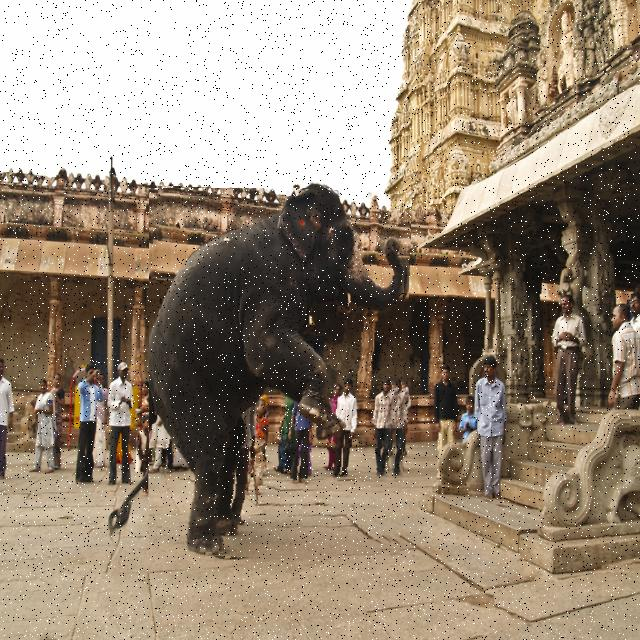elephant: (149, 188, 409, 560)
